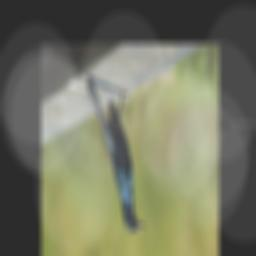Crow: (85, 74, 146, 234)
